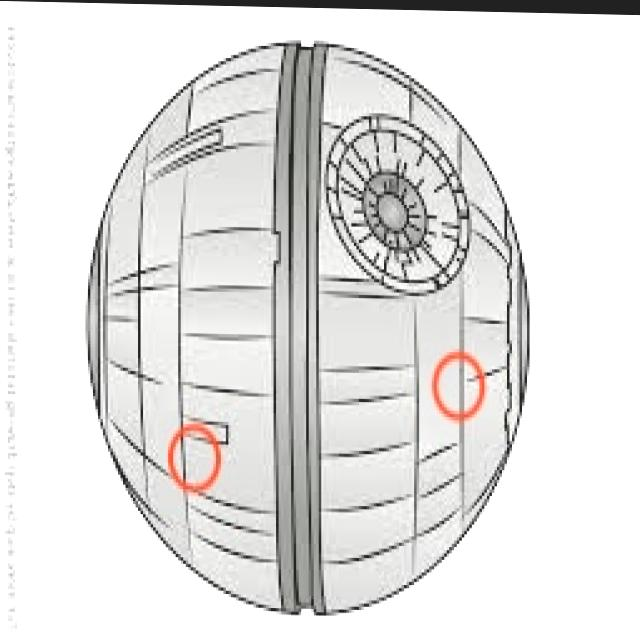deathStar: (82, 36, 530, 611)
